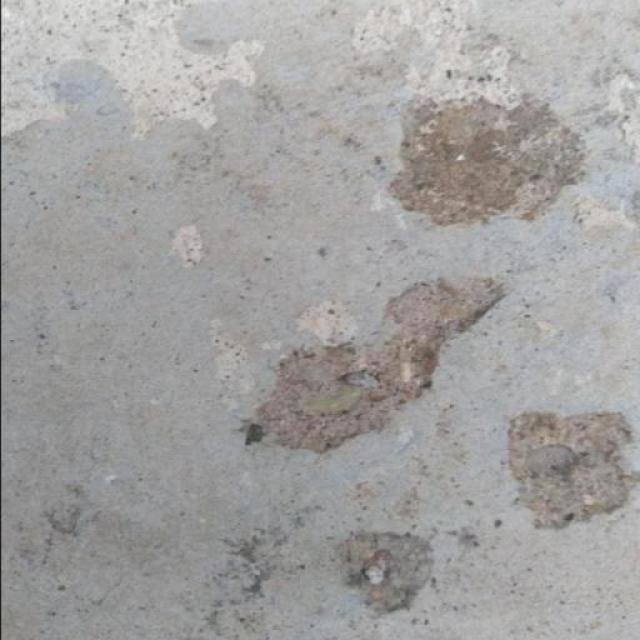D10: (244, 276, 502, 451), (390, 100, 580, 226), (505, 412, 628, 525), (345, 534, 426, 612)
